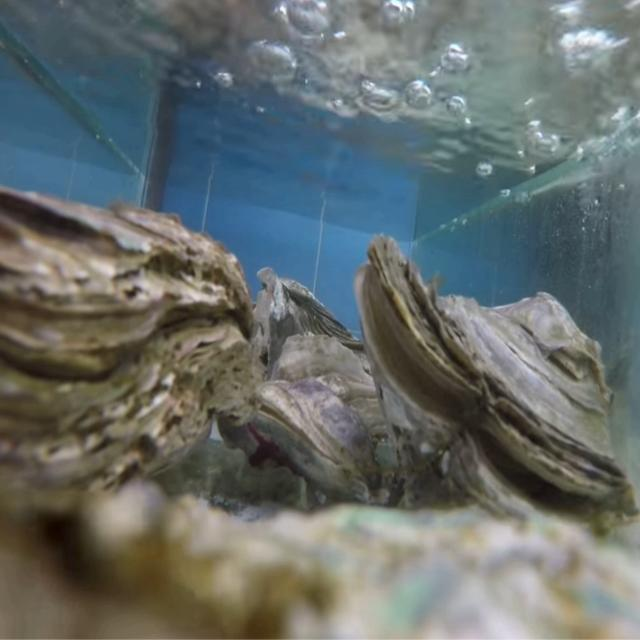Oyster-Closed: (0, 186, 258, 514), (248, 333, 406, 507)
Oyster-Indeterminate: (0, 478, 640, 640), (252, 266, 368, 383)
Oyster-Open: (354, 233, 640, 538)
